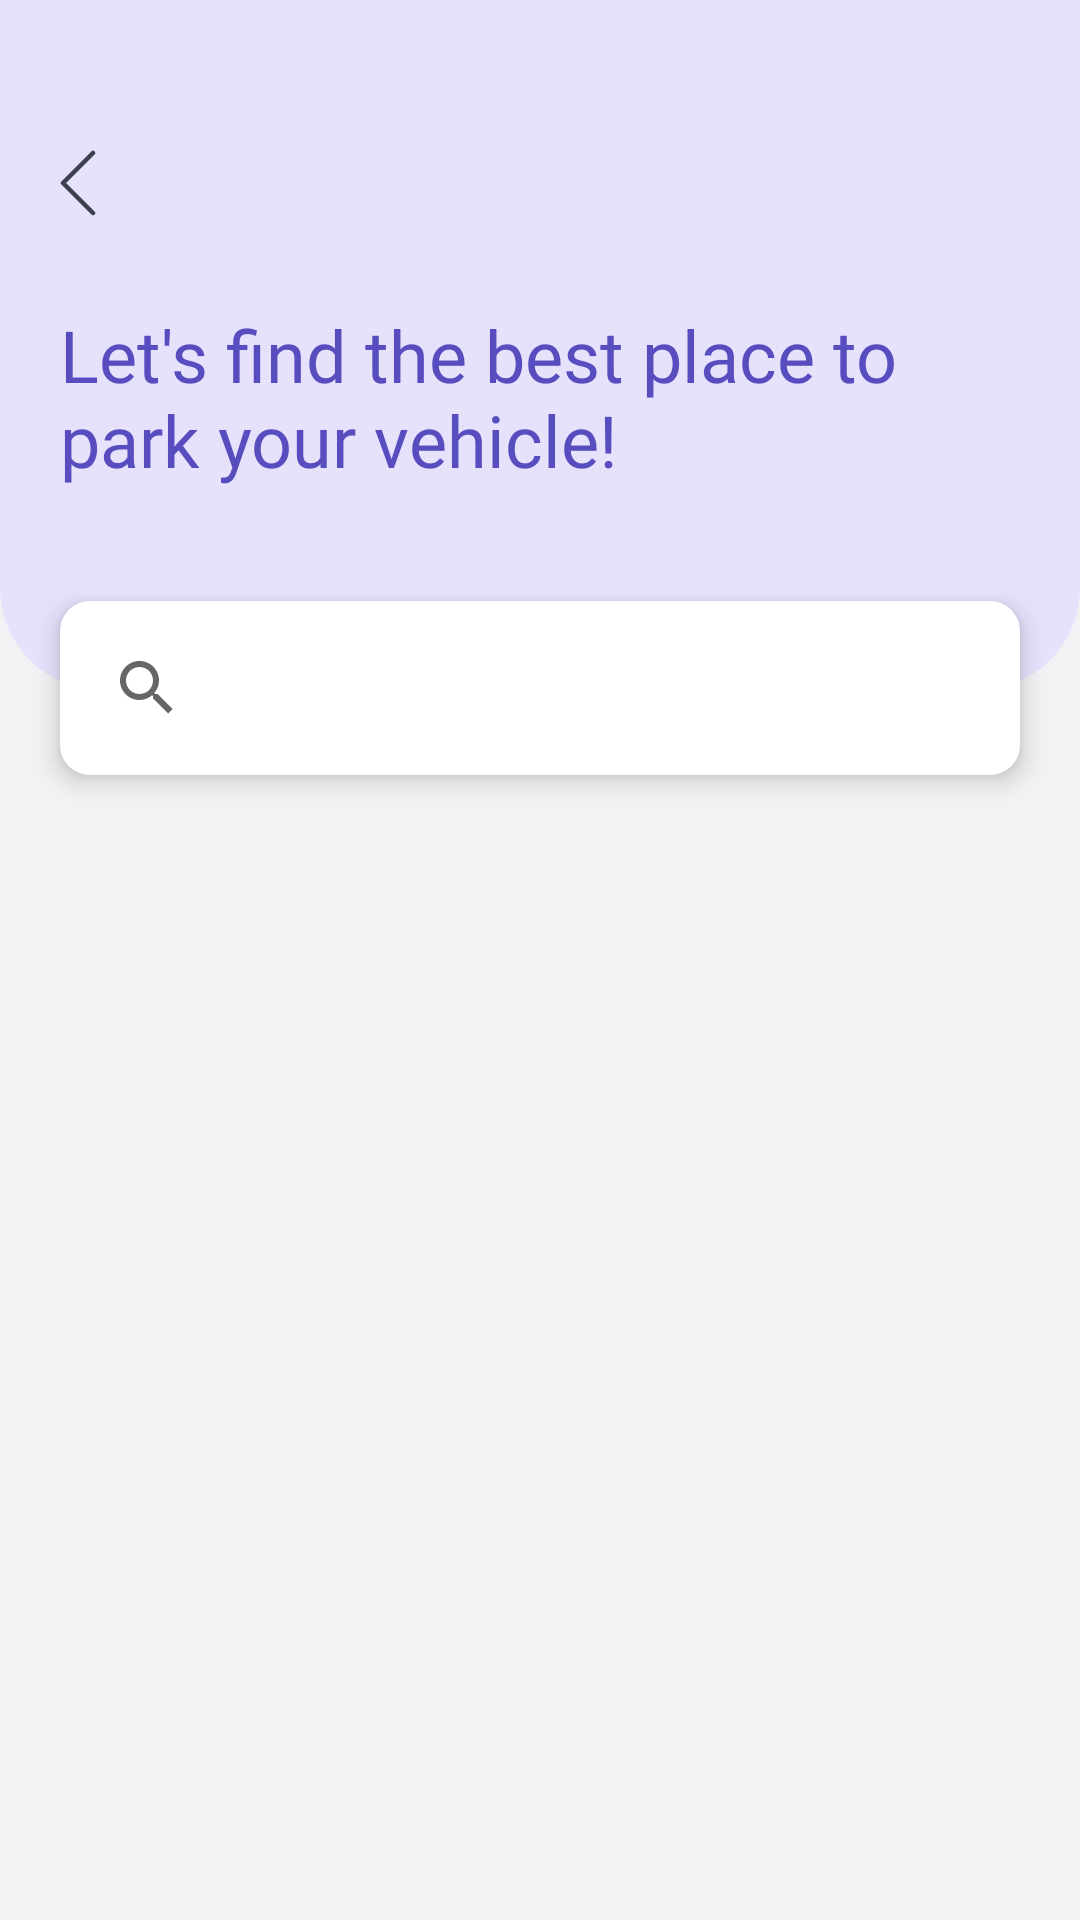

Locate icon controls on the screen. Image size 1080px x 1920px, boxes as [left=x1, top=y1, right=x2, bottom=y2].
arrowleft: [left=60, top=150, right=96, bottom=216]
